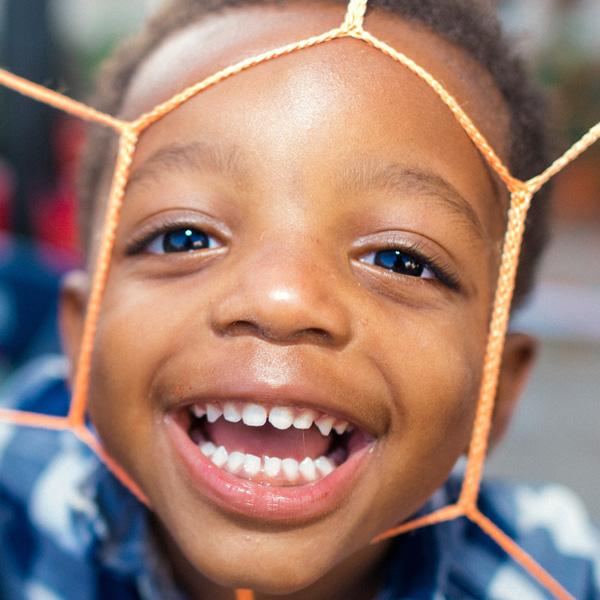Eyes: (338, 208, 458, 298), (119, 198, 242, 280)
